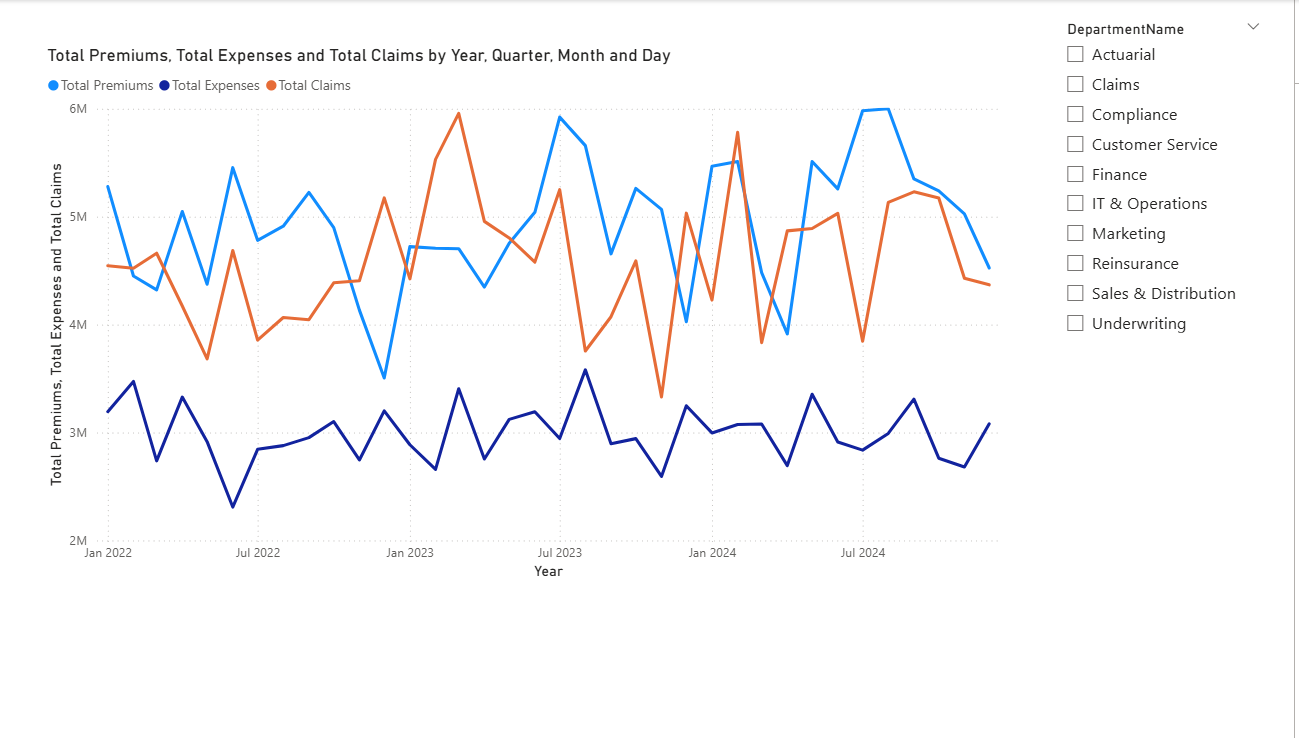

The page's visual inventory and layout, read from the dashboard file:
{"tool":"powerbi","page":{"name":"Page 2","canvas":[1280,720],"ordinal":1},"visuals":[{"type":"lineChart","fields":{"Y":["fact_financials.Total Premiums","fact_financials.Total Expenses","fact_financials.Total Claims"],"Category":["Date_month.MonthStart.Variation.Date Hierarchy.Year","Date_month.MonthStart.Variation.Date Hierarchy.Quarter","Date_month.MonthStart.Variation.Date Hierarchy.Month","Date_month.MonthStart.Variation.Date Hierarchy.Day"]},"box":[62.2,43.8,948.3,525.2],"z":0},{"type":"slicer","fields":{"Values":["dim_department.DepartmentName"]},"box":[1046.6,14.6,213,394.9],"z":1}]}

Visuals, with their boxes in screenshot pixels (x1, y1, x2, y2), scaled from the page's 1280x720 canvas onto the 1299x738 screenshot:
lineChart - fact_financials.Total Premiums x fact_financials.Total Expenses: 63/45/1025/583
slicer - dim_department.DepartmentName: 1062/15/1278/420
